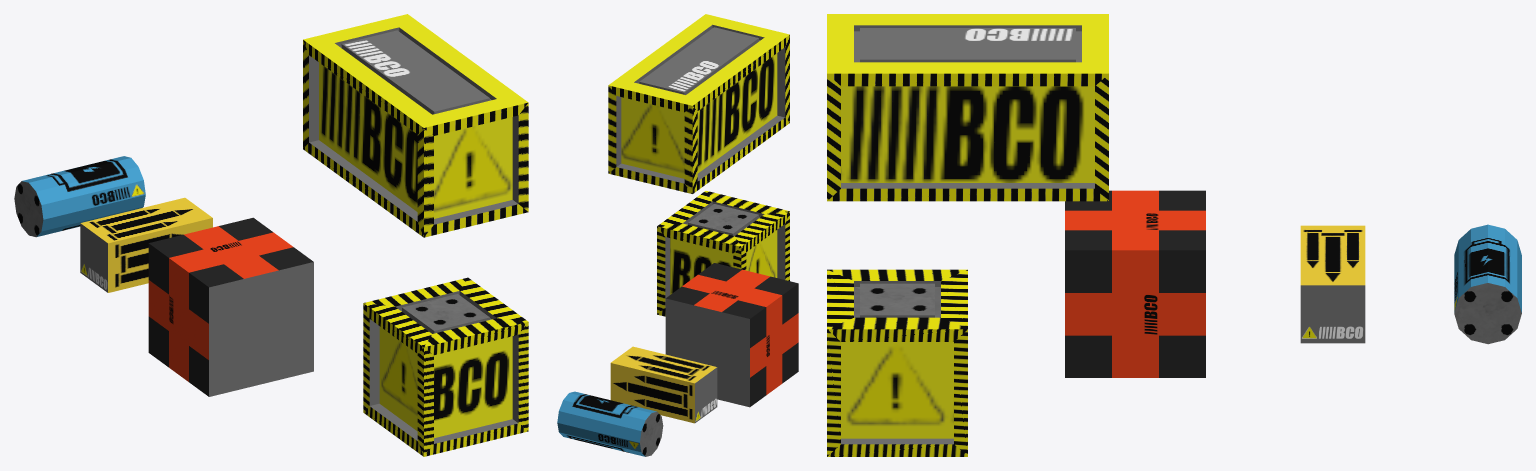
The model's file is GameJamCiNDUSTRIAL.fbx.
The picture shows the model from 3 angles, left to right: view 1: azimuth 30°, elevation 25°; view 2: azimuth 150°, elevation 25°; view 3: azimuth 270°, elevation 25°; orthographic projection. The views are drawn at different scales.
Visible parts, largest first — view 1: Create.001, Create, Cube.008, Cylinder.003, Cube.012; view 2: Create.001, Cube.008, Create, Cube.012, Cylinder.003; view 3: Create.001, Create, Cube.008, Cube.012, Cylinder.003.
Boxes of the visible parts, bbox=[...] form: Create.001: bbox=[303, 14, 528, 237]; Create: bbox=[363, 277, 528, 456]; Cube.008: bbox=[148, 217, 313, 396]; Cylinder.003: bbox=[14, 156, 145, 237]; Cube.012: bbox=[80, 197, 212, 292]; Create.001: bbox=[608, 14, 789, 193]; Cube.008: bbox=[665, 263, 798, 407]; Create: bbox=[657, 191, 789, 316]; Cube.012: bbox=[610, 346, 717, 423]; Cylinder.003: bbox=[557, 391, 663, 456]; Create.001: bbox=[827, 14, 1108, 201]; Create: bbox=[827, 269, 967, 456]; Cube.008: bbox=[1065, 190, 1205, 377]; Cube.012: bbox=[1300, 225, 1365, 343]; Cylinder.003: bbox=[1454, 224, 1521, 344].
Size of the model in its own units: 415 by 600 by 986.
